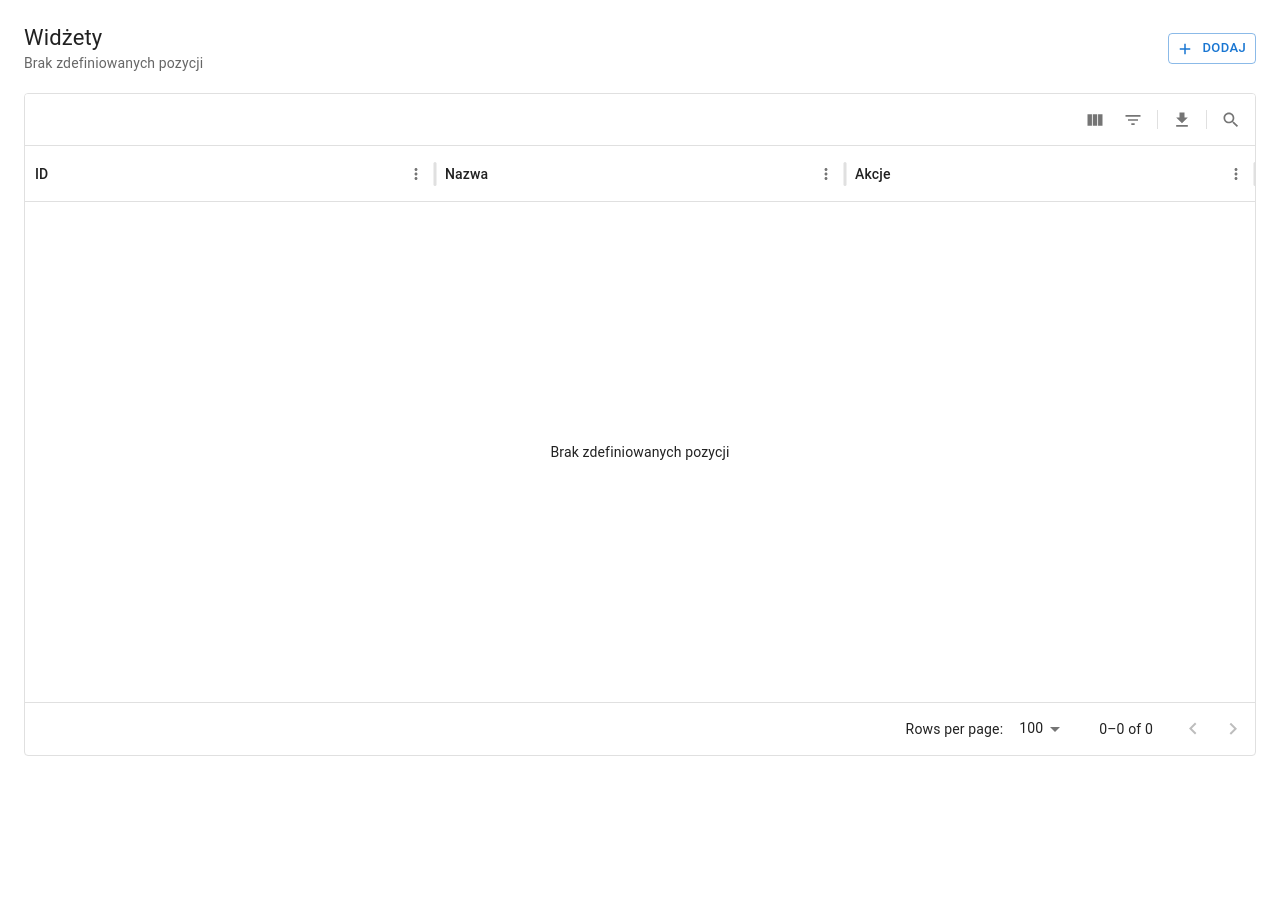
Test: SimpleCrudPage › creates a new item and refreshes the list
Click the button "Dodaj": (1212, 49) [1168, 33, 1256, 64]
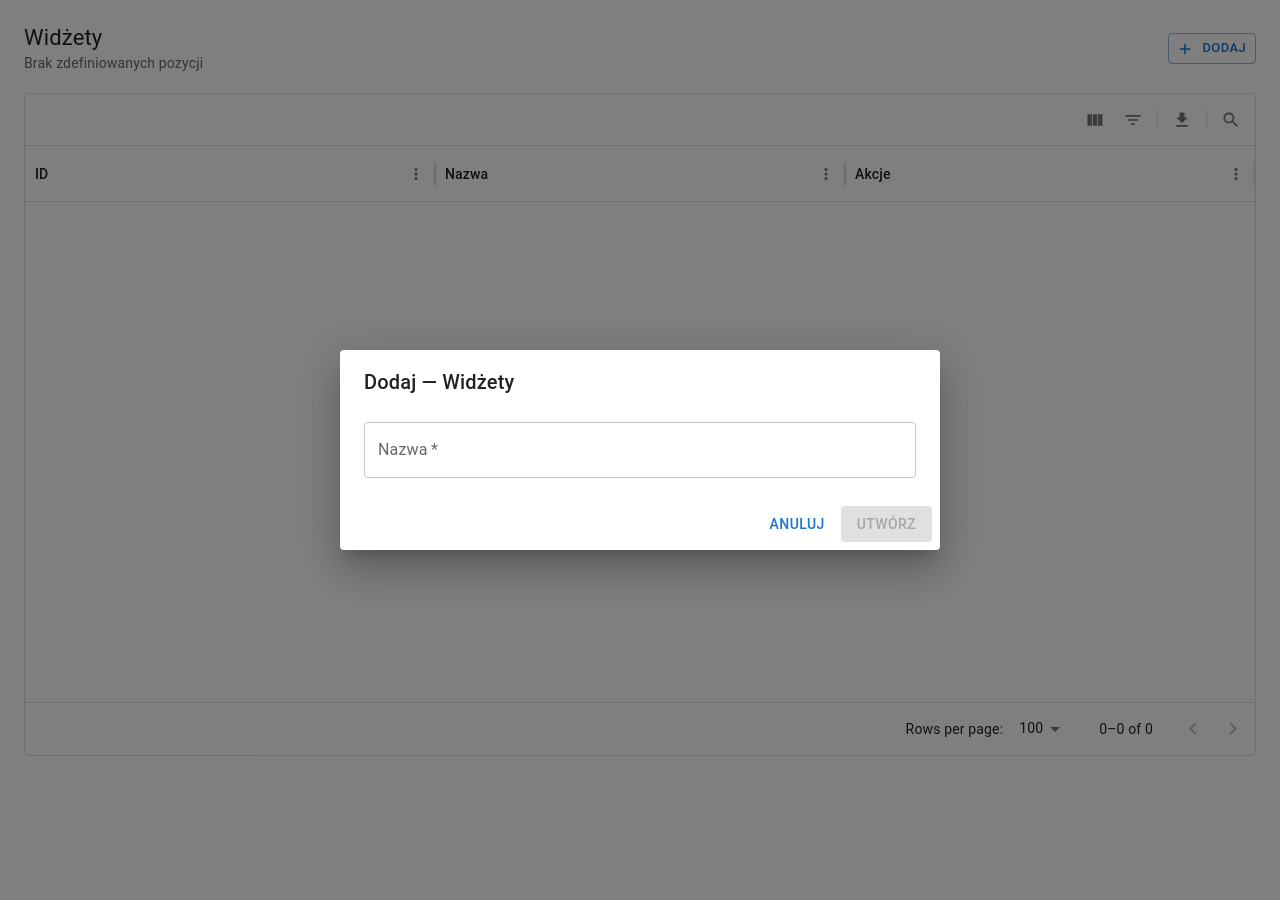
In the field labelled "Nazwa *": (640, 450) [364, 422, 916, 478], type "Beta"
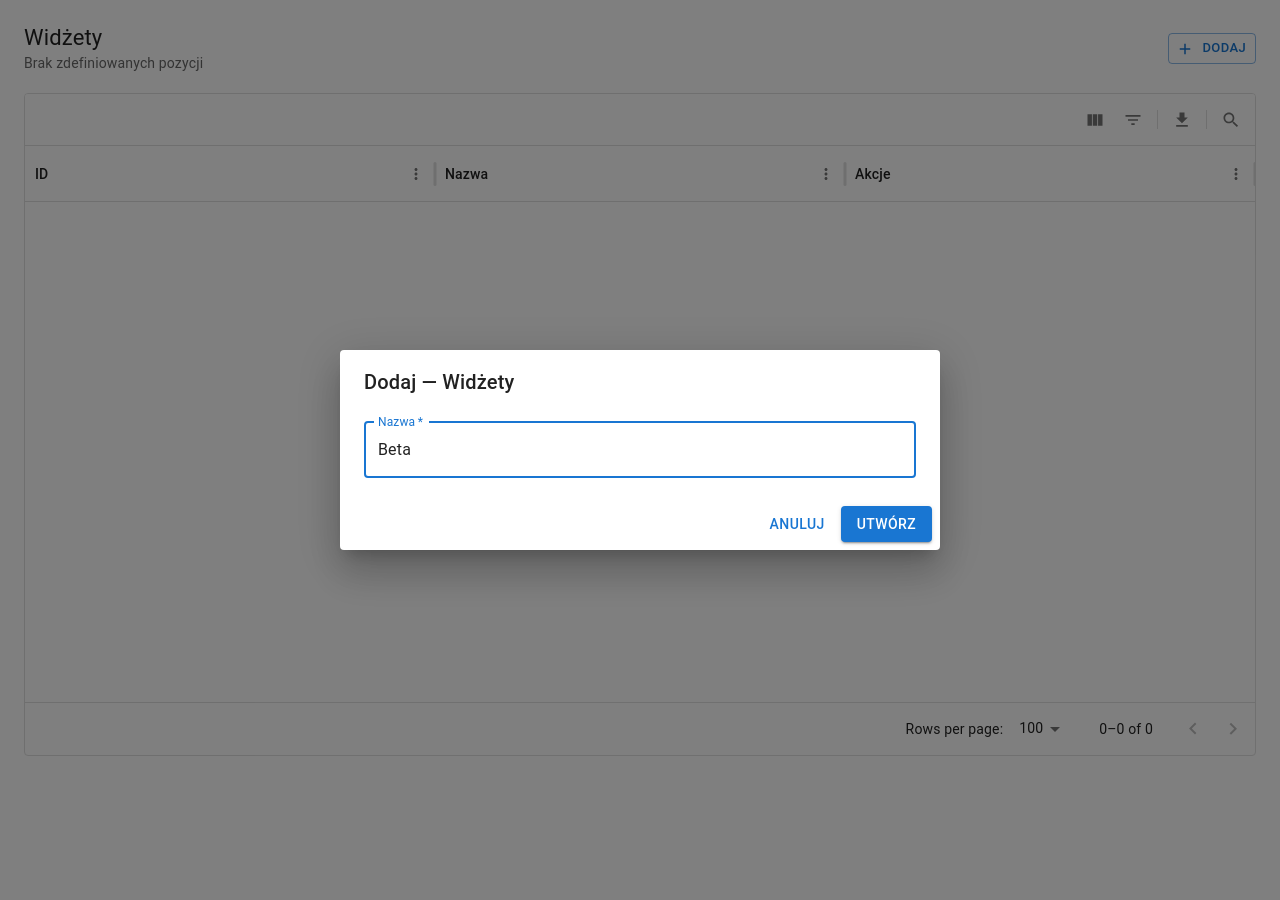
Click the button "Utwórz": (886, 524) [841, 506, 932, 542]
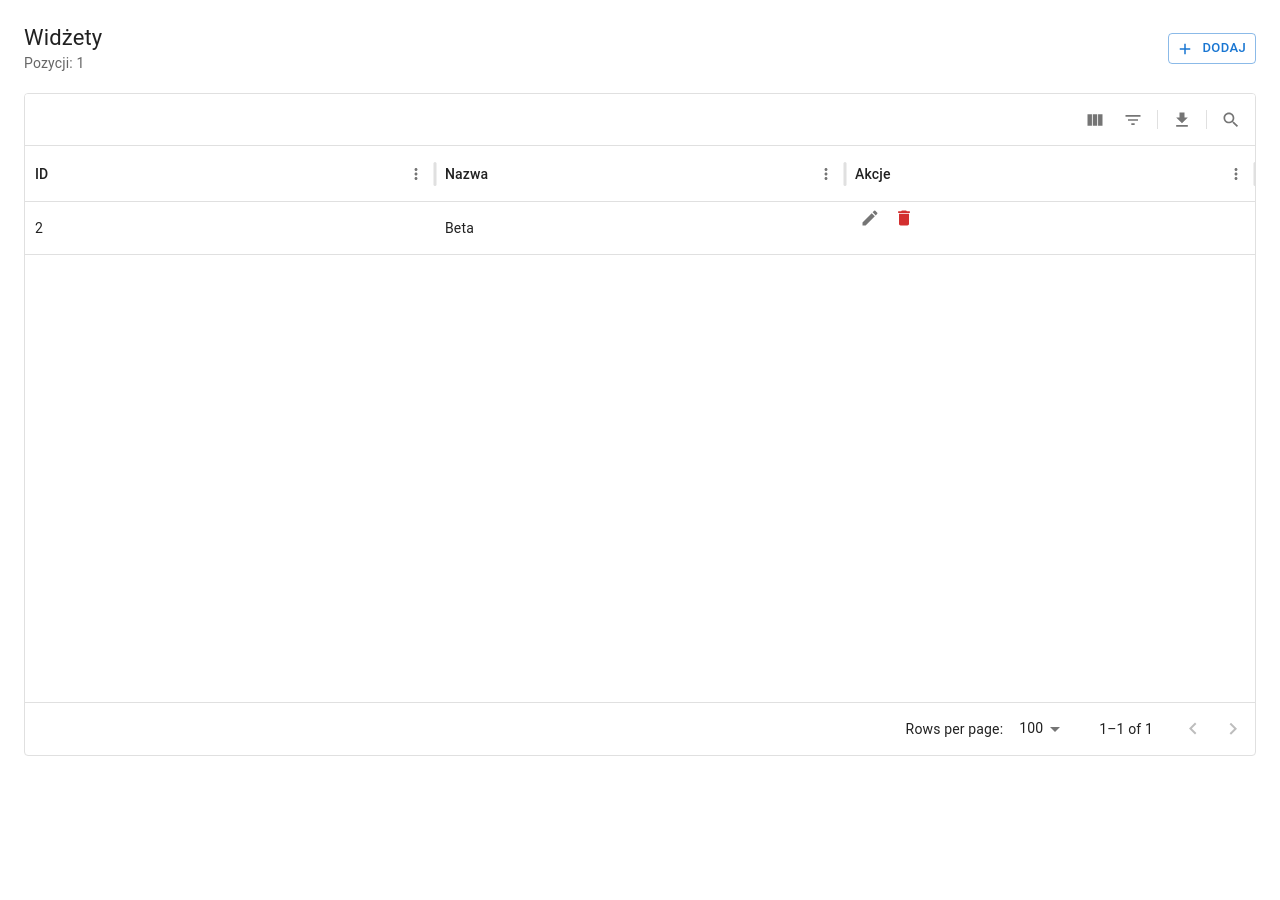
Expected: the text "Beta" is shown, [445, 220, 474, 236]
